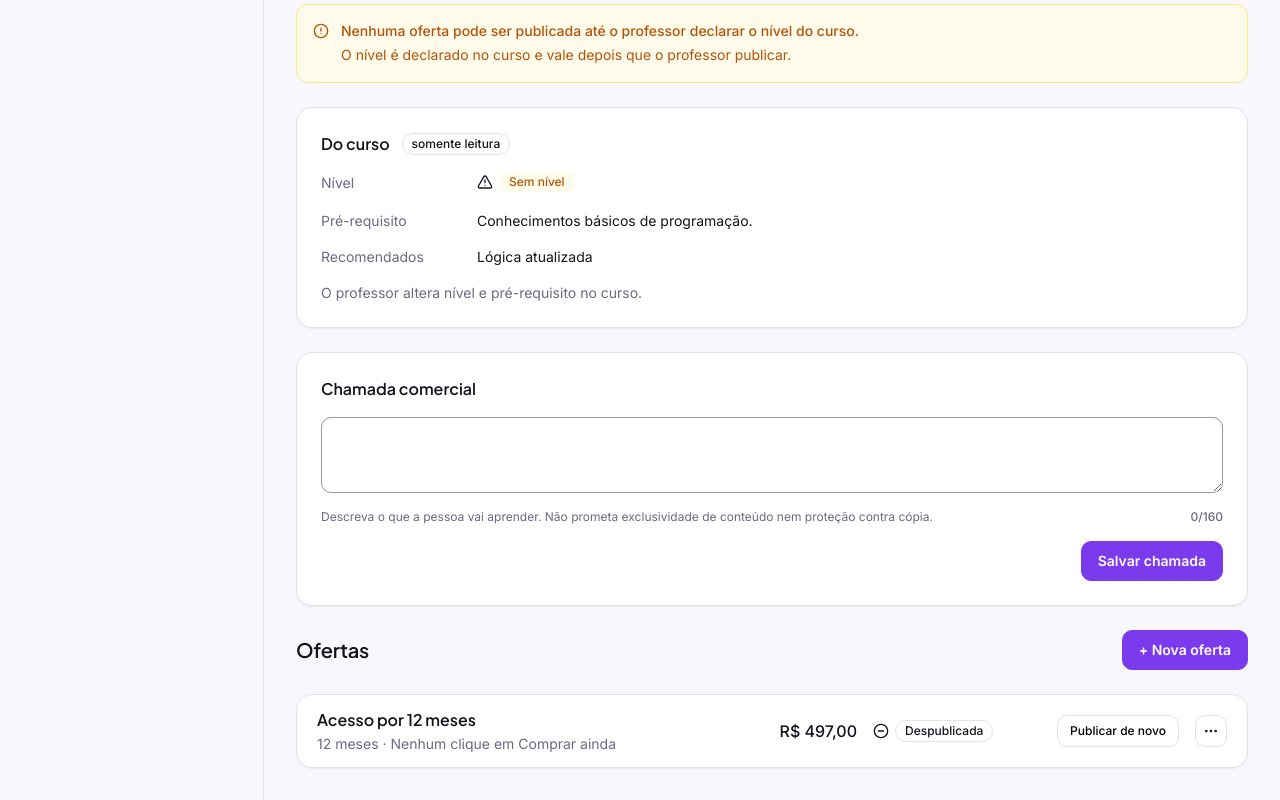
Scenario: catalog offer price and period changes › edits unpublished terms without future purchase confirmation
The image size is (1280, 800).
(page scrolled)
Click the button named "Ações de Acesso por 12 meses": (1211, 731) top-left (1195, 715), bottom-right (1227, 747)
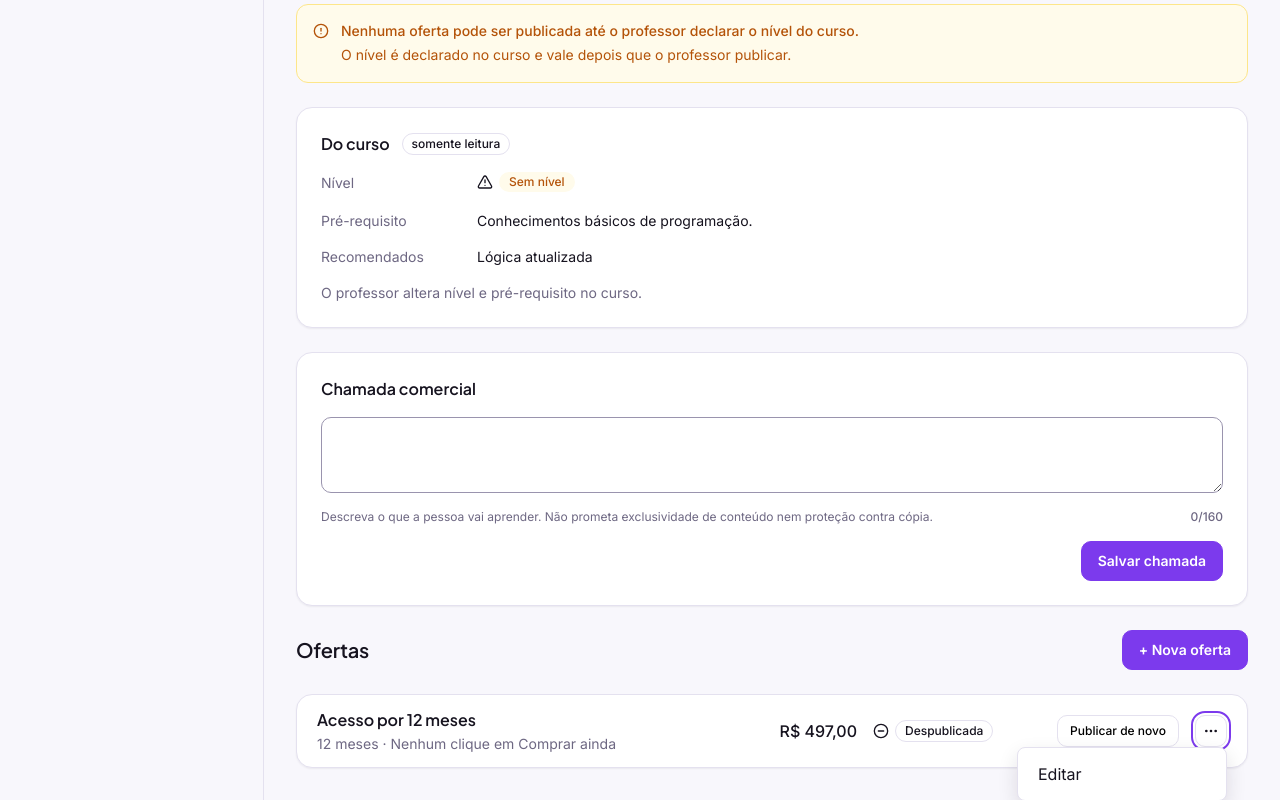
Click the button "Editar": (1122, 774) top-left (1026, 756), bottom-right (1218, 792)
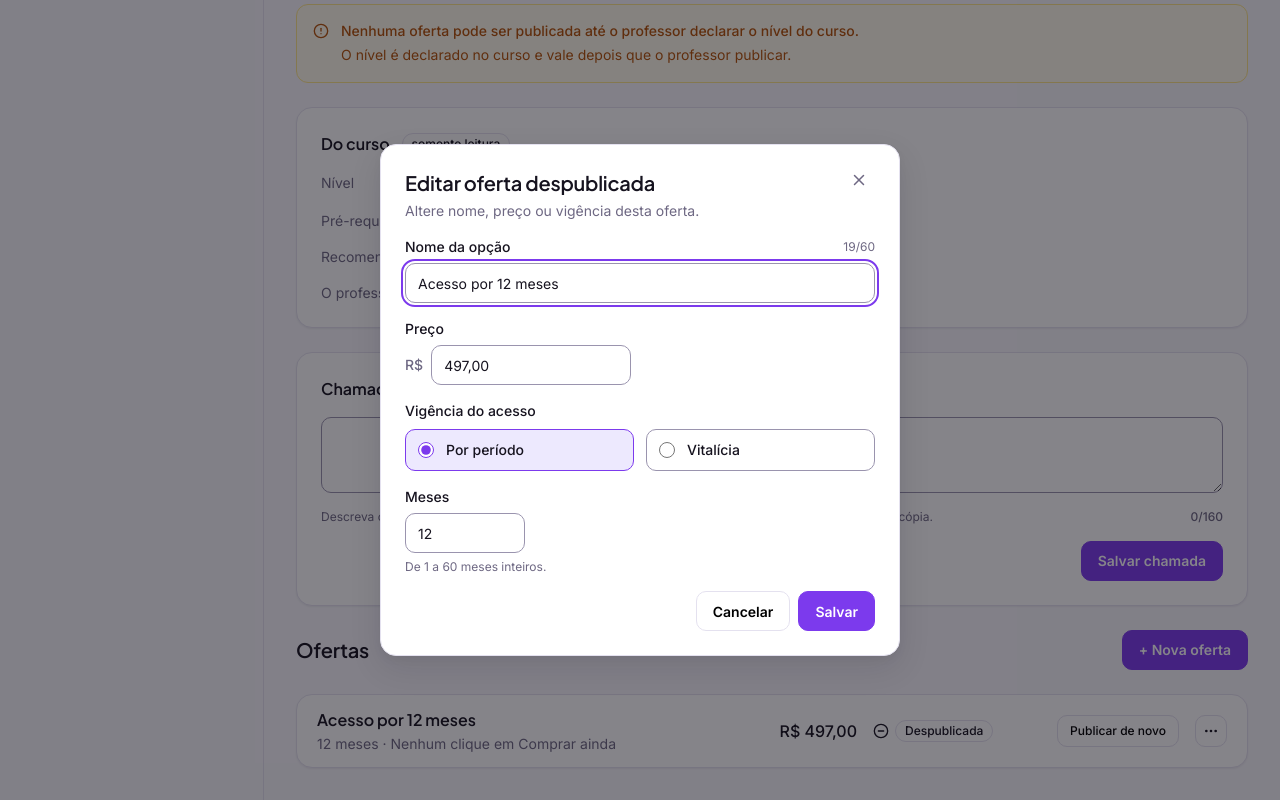
Clear the field labelled "Preço": (531, 365) top-left (431, 345), bottom-right (631, 385)
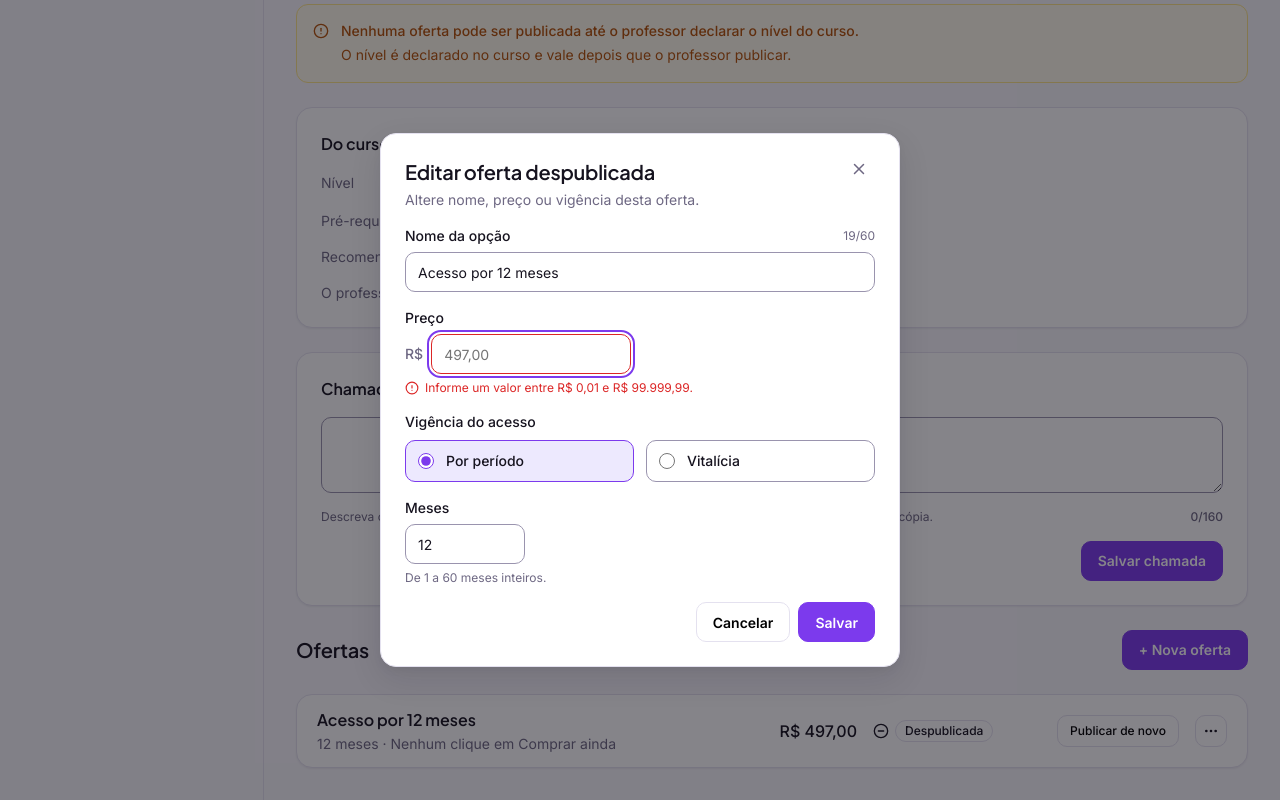
In the field labelled "Preço": (531, 354) top-left (431, 334), bottom-right (631, 374), type "397,00"
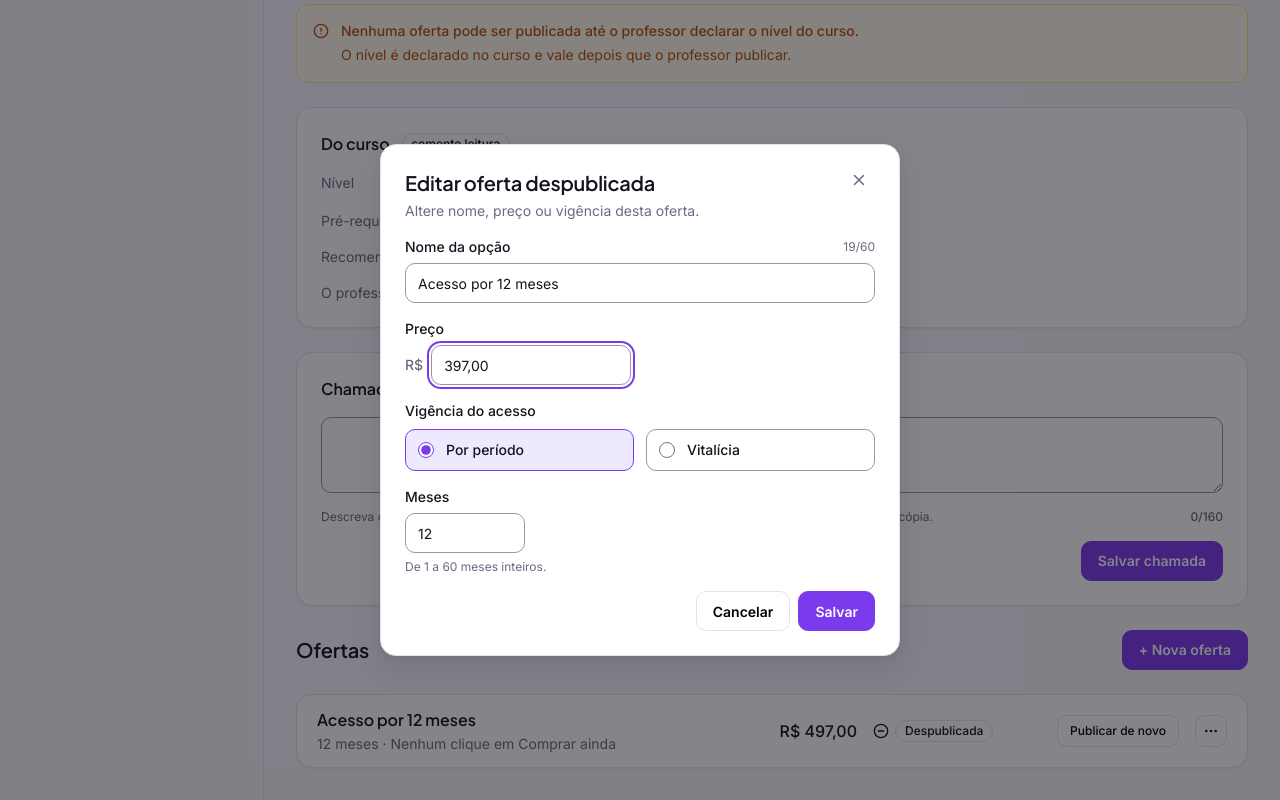
Click the button "Salvar": (837, 611) top-left (798, 591), bottom-right (875, 631)
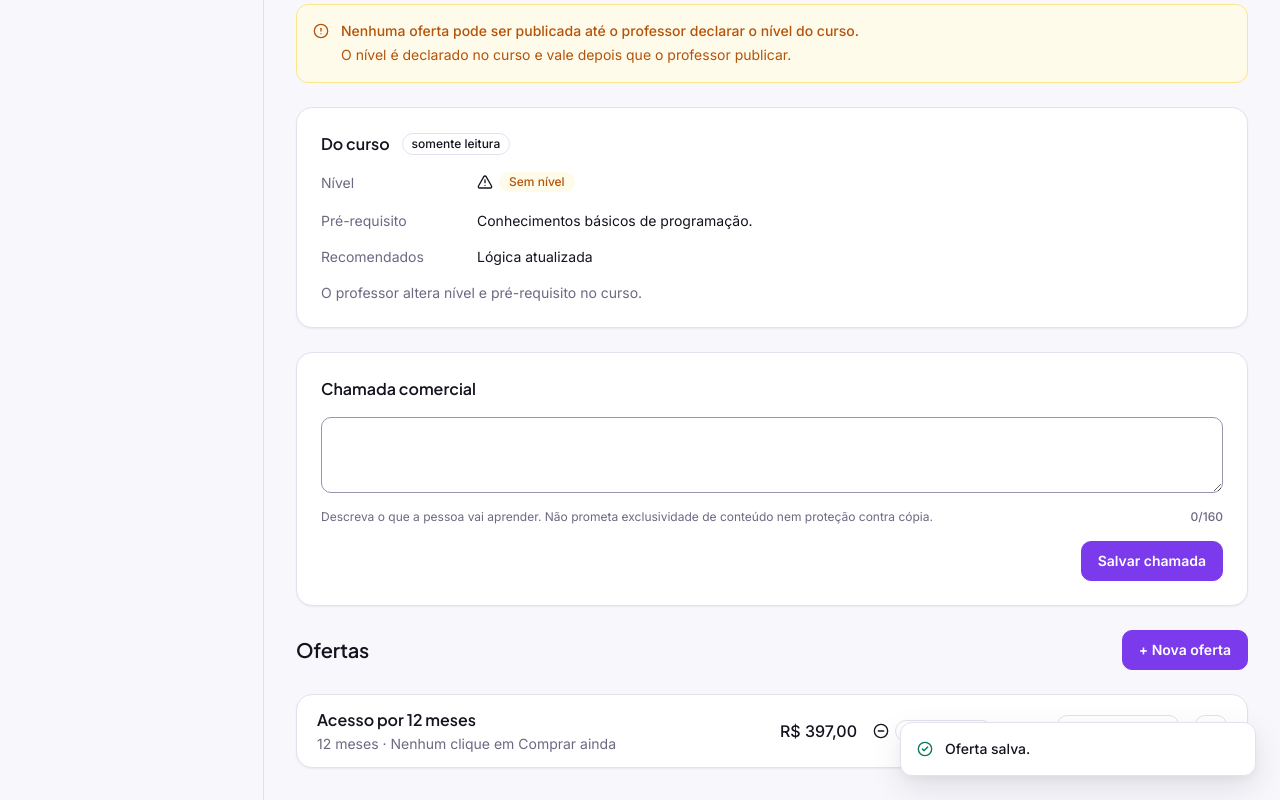
expect the text "Oferta salva." is shown: met, box top-left (900, 722), bottom-right (1256, 776)
